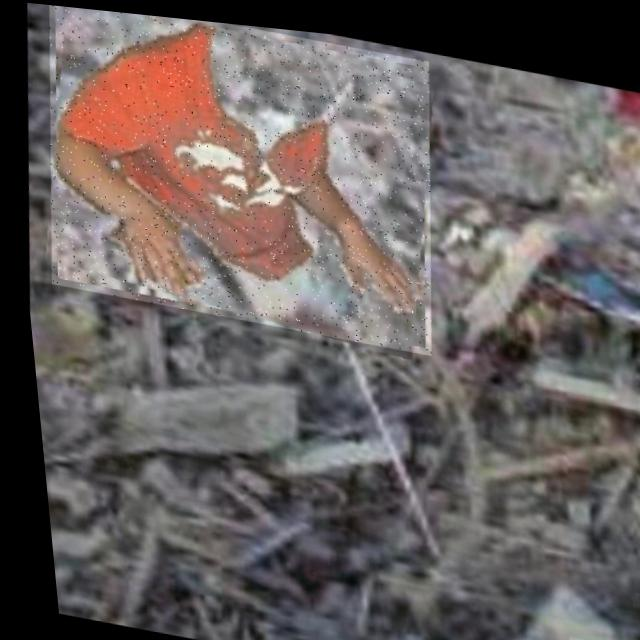Person in Rubble: (24, 2, 451, 349)
